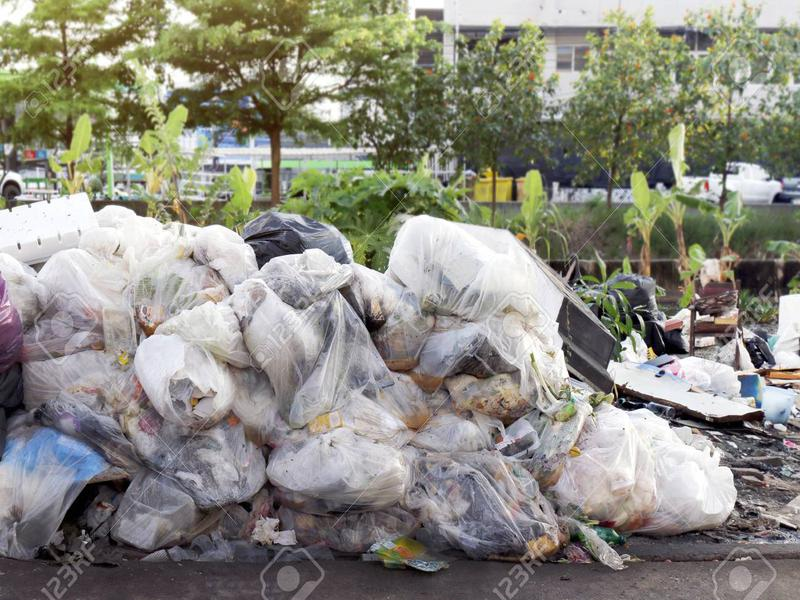plastic: (526, 394, 742, 537), (242, 291, 401, 430), (385, 209, 567, 324), (405, 454, 573, 567), (1, 419, 112, 569), (267, 414, 417, 524), (129, 216, 258, 333), (37, 232, 143, 340), (133, 332, 243, 431), (234, 204, 359, 268)
